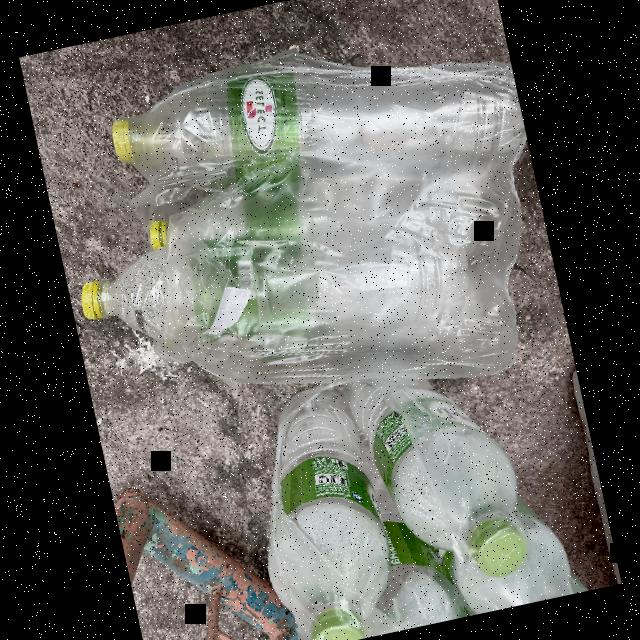plastic_bag: (112, 10, 574, 442)
plastic_bottle: (72, 170, 553, 390), (100, 15, 532, 250), (140, 121, 540, 280), (350, 346, 536, 596), (232, 379, 405, 640), (328, 448, 462, 638), (438, 490, 573, 618)
plastic_bottle_cap: (464, 511, 534, 582), (305, 605, 362, 640), (104, 113, 142, 165), (74, 276, 113, 322), (144, 216, 174, 253)
